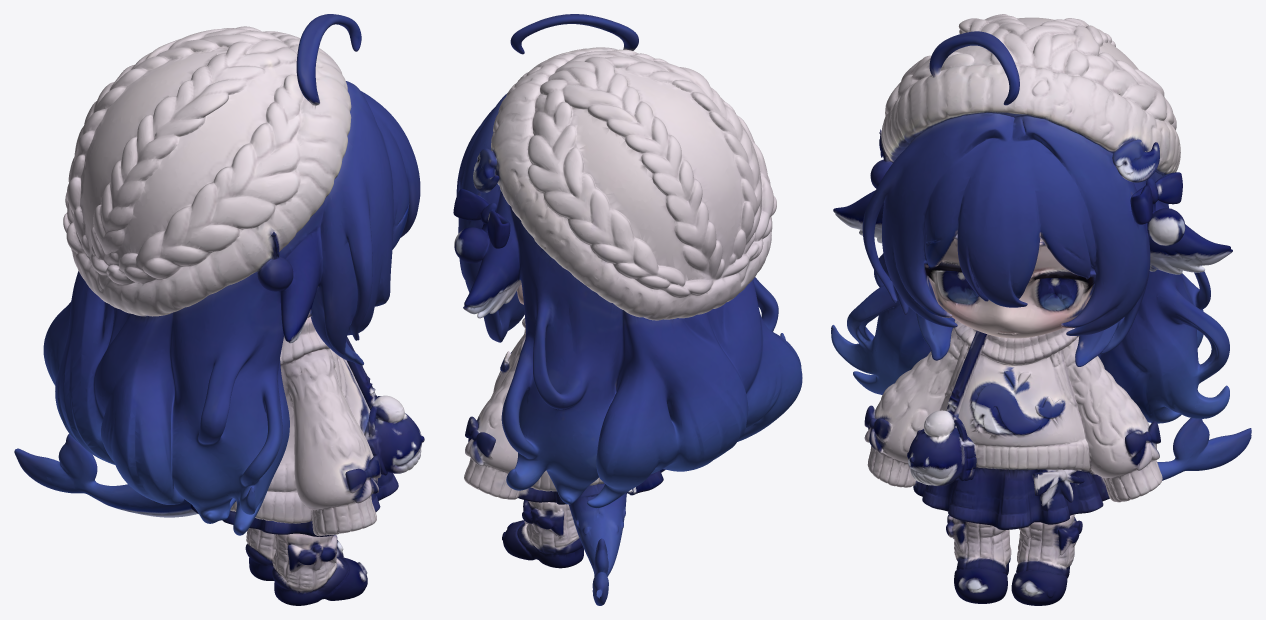
The model's file is deepseek_winter.glb.
3 renders of one model, left to right at view 1: azimuth 30°, elevation 25°; view 2: azimuth 150°, elevation 25°; view 3: azimuth 270°, elevation 25°, orthographic. The views are drawn at different scales.
Visible parts, largest first — view 1: DeepseekWinter; view 2: DeepseekWinter; view 3: DeepseekWinter.
Boxes of the visible parts, x1,y1,x2,y2 form: DeepseekWinter: (14,14,424,605); DeepseekWinter: (453,14,802,605); DeepseekWinter: (831,14,1251,605).
Size of the model in its own units: 0.5806 by 0.98 by 0.6789.
1 material, 1 textured.
